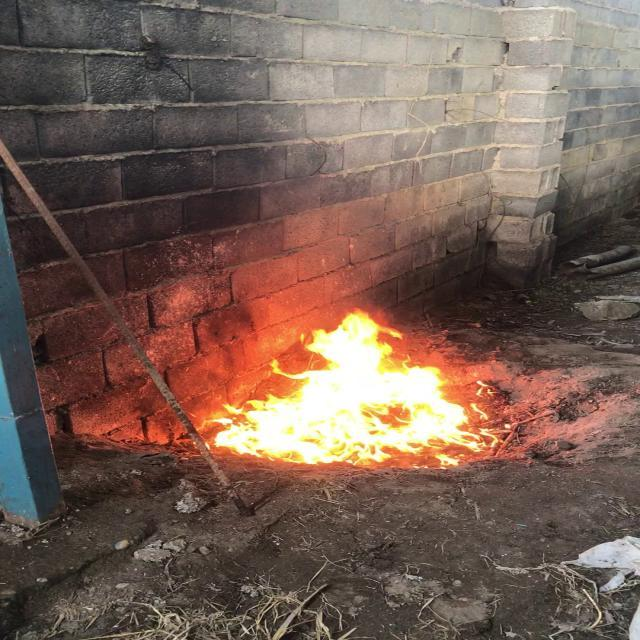Fire: (208, 302, 512, 456)
